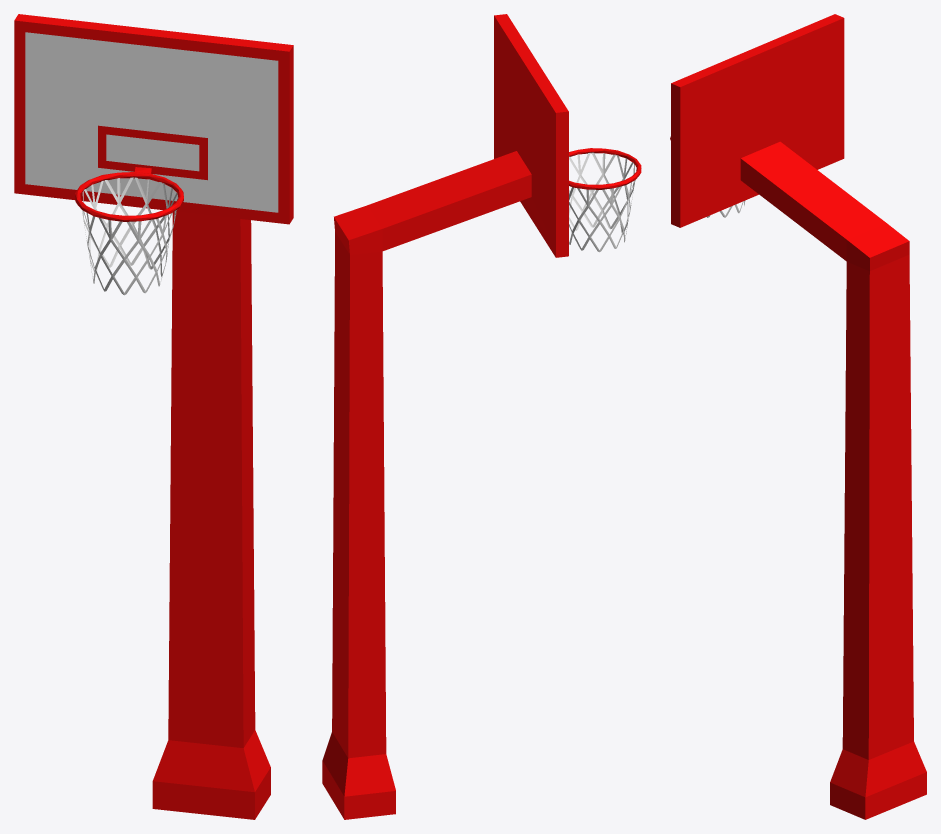
3 views of the same model, side by side, from view 1: azimuth 30°, elevation 25°; view 2: azimuth 150°, elevation 25°; view 3: azimuth 270°, elevation 25° (orthographic). The views are drawn at different scales.
Visible parts, largest first — view 1: Cube, Torus; view 2: Cube, Torus; view 3: Cube.
Part boxes in pixels (bbox=[...]): Cube: bbox=[14, 14, 293, 819]; Torus: bbox=[75, 167, 183, 295]; Cube: bbox=[322, 14, 568, 819]; Torus: bbox=[569, 148, 641, 252]; Cube: bbox=[671, 14, 926, 819].
Bounding box in the file's own units: 341 × 990 × 331.
